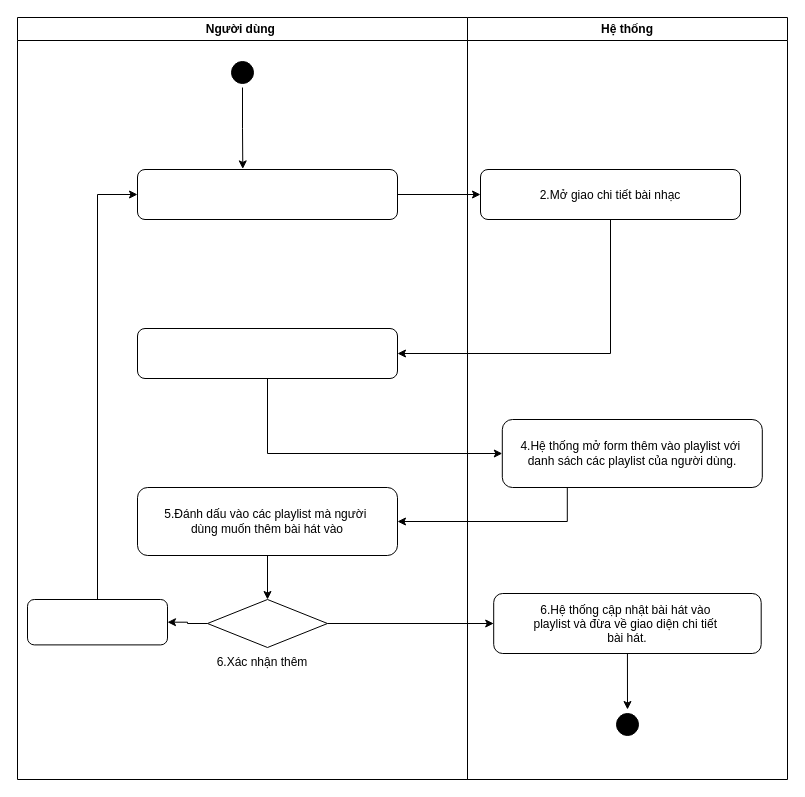
The diagram is 805 pixels wide and 797 high, and some of its shapes have lost their labels. The shapes that lost their labels are listed below. From the top down, each one's centre as x and y in pixels, then its label:
point 267,194: 1.Chọn vào 1 bài nhạc trên trang chủ
point 267,353: 3.Chọn yêu thích hoặc thêm vào playlist
point 97,621: 6.1 Chọn huỷ thêm
